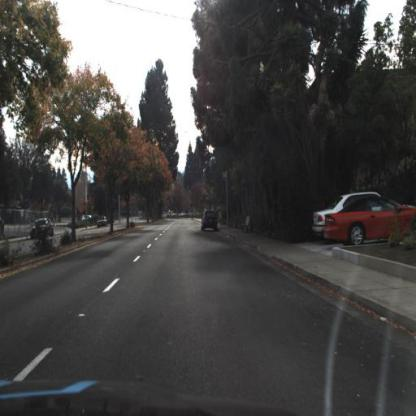car: (314, 194, 416, 241), (324, 199, 416, 247), (30, 217, 55, 244), (200, 209, 221, 233), (96, 215, 109, 229)
